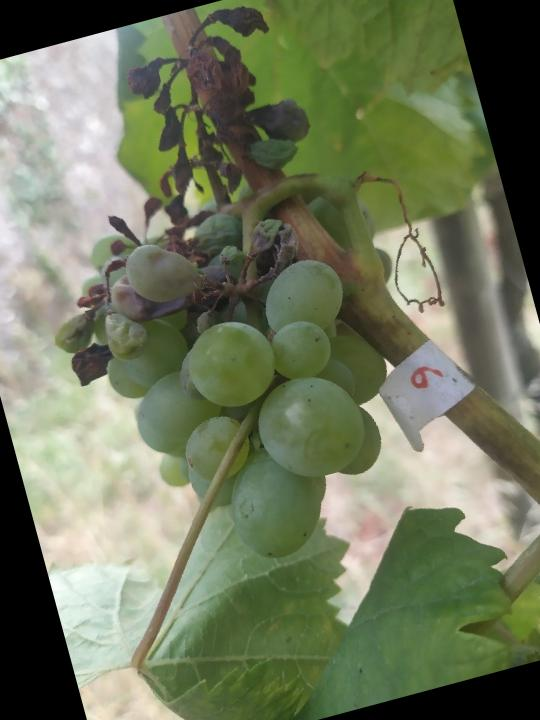grape: (0, 0, 421, 606)
